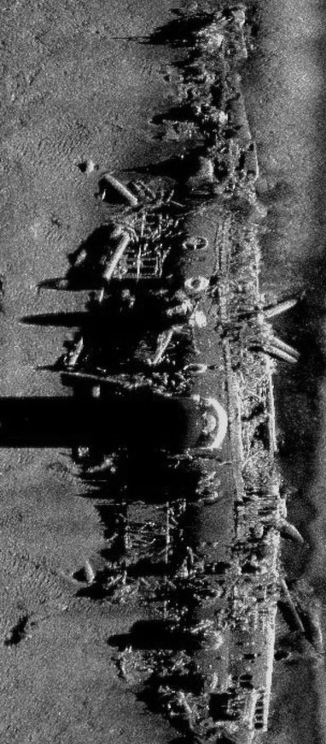ship: (56, 7, 316, 743)
